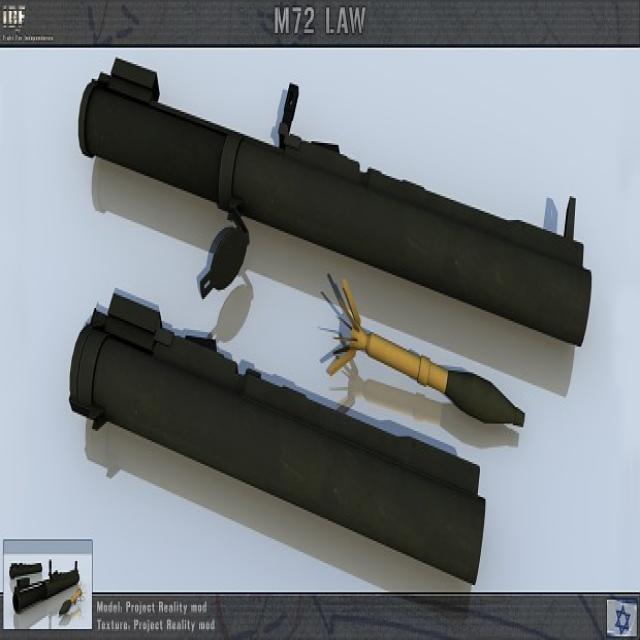bazooka: (65, 51, 598, 586)
